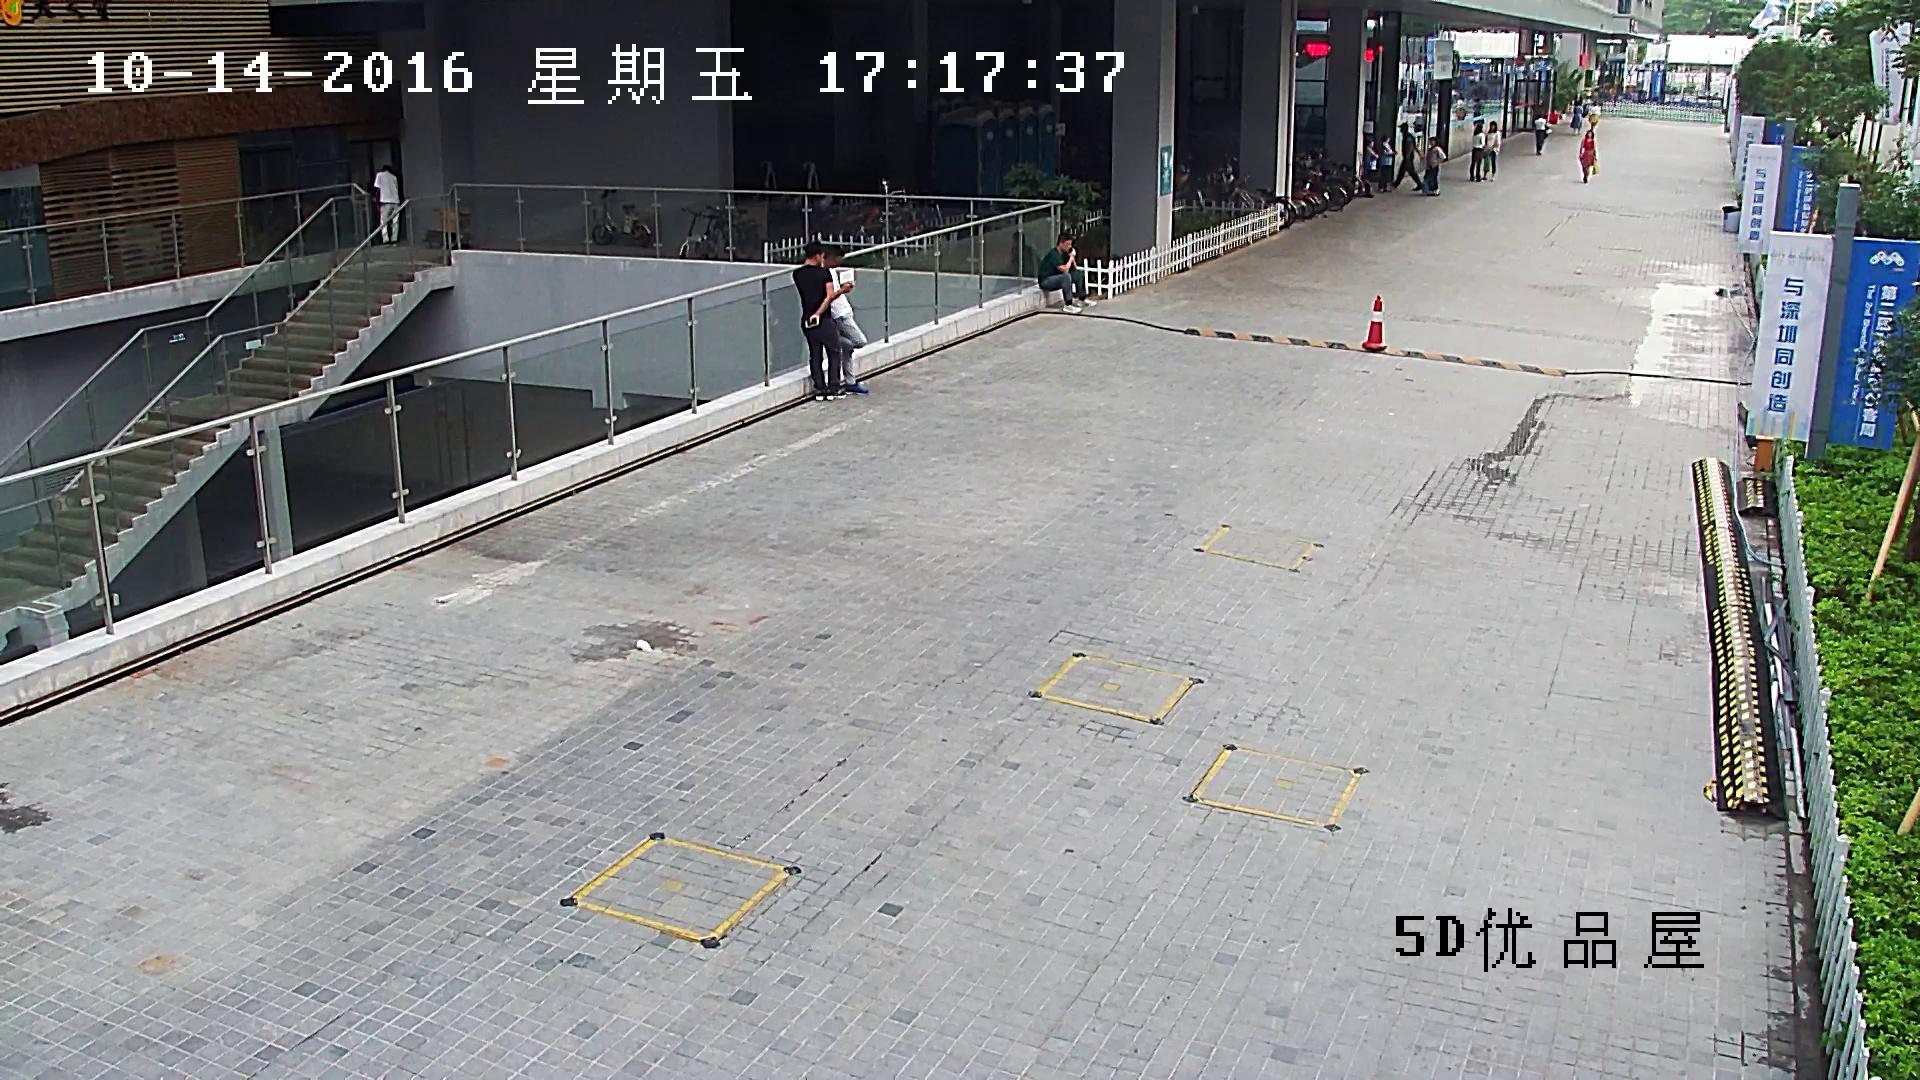person: (792, 240, 848, 402), (822, 244, 869, 394), (1037, 232, 1097, 315), (991, 228, 1037, 292), (371, 163, 401, 248), (1391, 122, 1425, 192), (1422, 136, 1447, 197), (1480, 120, 1501, 181), (1579, 128, 1599, 184), (1378, 134, 1398, 193), (1468, 122, 1486, 183), (1533, 112, 1553, 155), (1364, 138, 1378, 184), (1569, 100, 1583, 136), (1586, 100, 1601, 130), (1454, 94, 1466, 131)
